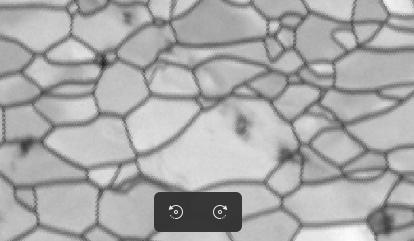good_void: (229, 110, 251, 142), (370, 207, 396, 233), (16, 135, 38, 157), (276, 144, 298, 165), (92, 50, 108, 70), (119, 10, 135, 27), (8, 159, 18, 172)
